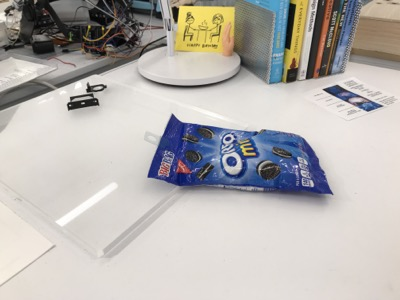oreo: (142, 111, 336, 200)
